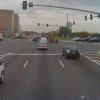Car: (59, 40, 87, 65)
